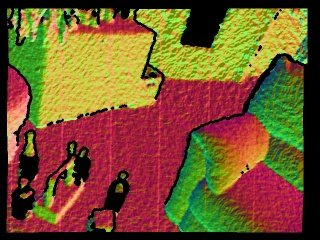station: (33, 155, 86, 225)
